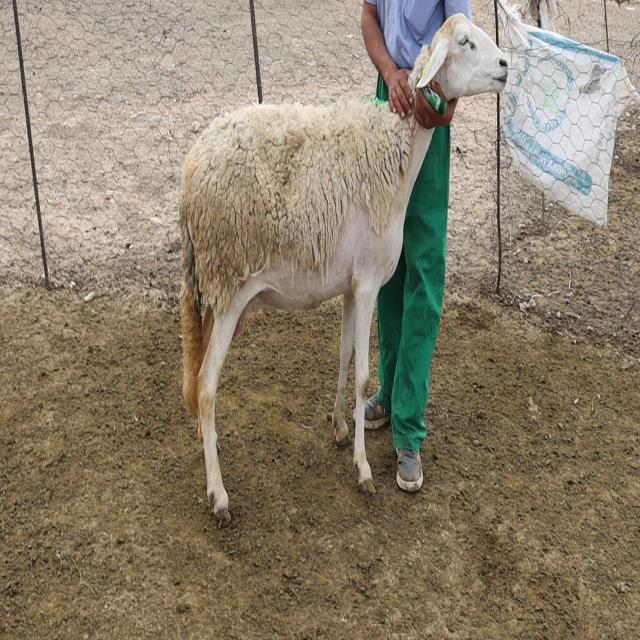Score_2: (179, 14, 508, 519)
